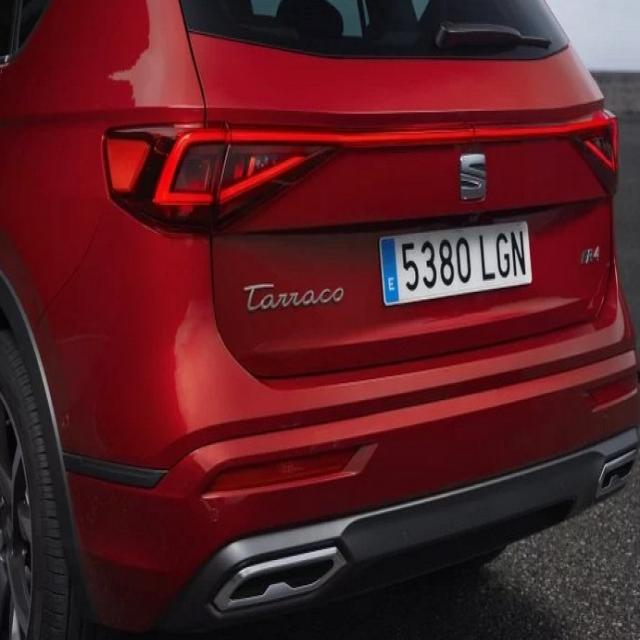license_plate-34Td: (380, 220, 531, 305)
